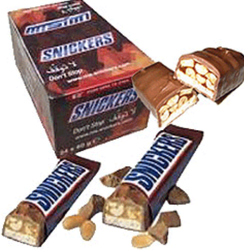snickers: (123, 130, 185, 190), (23, 159, 86, 211), (71, 87, 136, 120), (41, 31, 111, 60)
